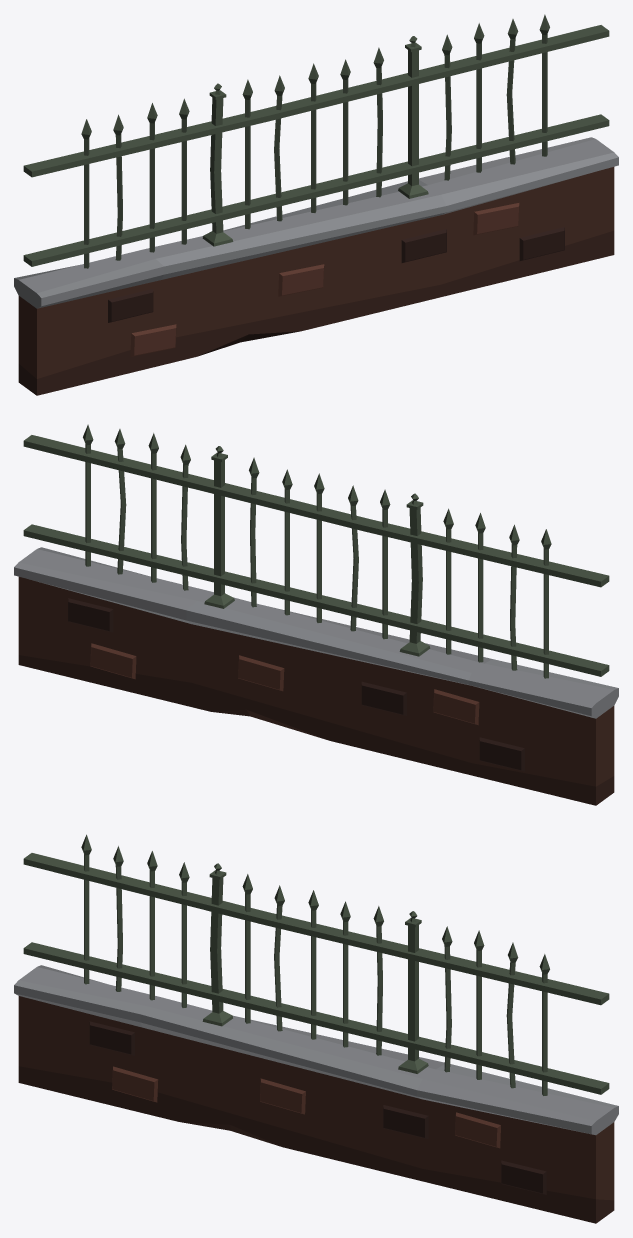
The model's file is Fence.fbx.
3 views of the same model, one above another, from view 1: azimuth 30°, elevation 25°; view 2: azimuth 150°, elevation 25°; view 3: azimuth 330°, elevation 25° (orthographic).
Parts seen in each view (by area): view 1: SM_Env_Fence_01; view 2: SM_Env_Fence_01; view 3: SM_Env_Fence_01.
Boxes of the visible parts, x1=… form: SM_Env_Fence_01: x1=14, y1=14, x2=618, y2=395; SM_Env_Fence_01: x1=14, y1=424, x2=618, y2=805; SM_Env_Fence_01: x1=14, y1=834, x2=618, y2=1223.
Bounding box in the file's own units: 324 × 139 × 28.8.
1 material, 1 textured.
